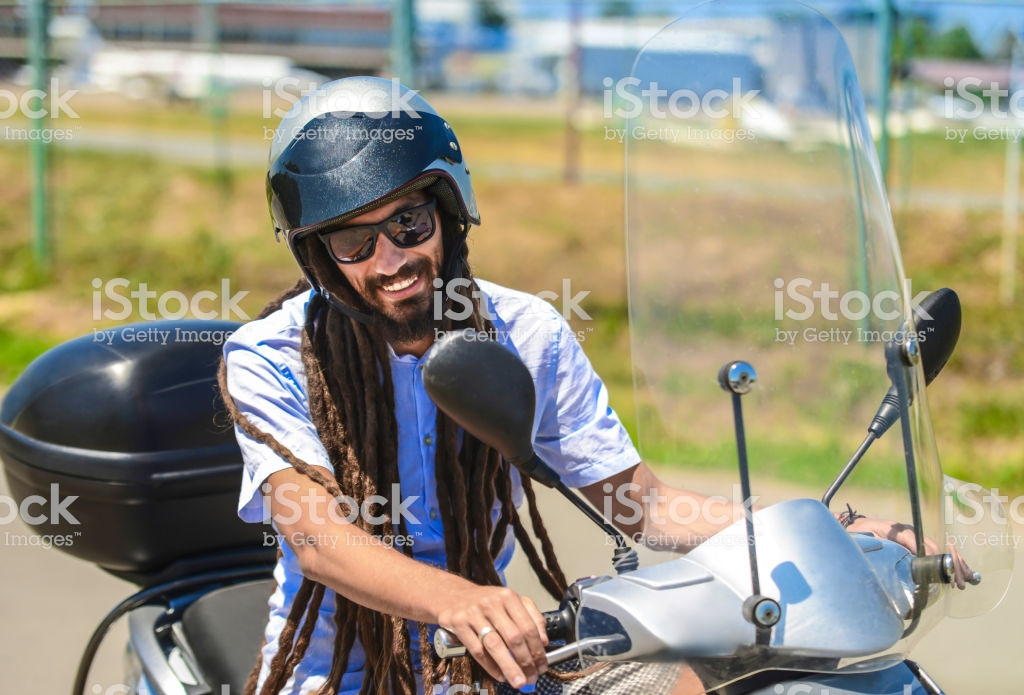helmet: (256, 80, 482, 254)
